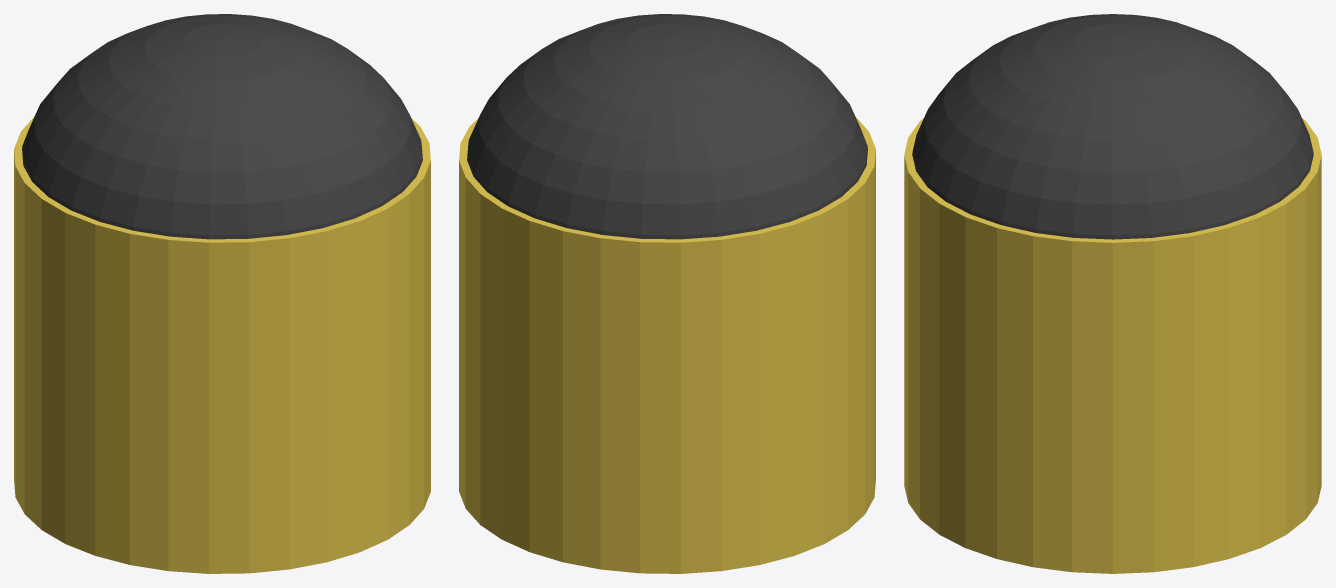
Rendered from cleaner.fbx.
3 views of the same model, side by side, from view 1: azimuth 30°, elevation 25°; view 2: azimuth 150°, elevation 25°; view 3: azimuth 270°, elevation 25° (orthographic).
Visible parts, largest first — view 1: cleaner; view 2: cleaner; view 3: cleaner.
Boxes of the visible parts, left/top/right/bottom form: cleaner: left=14, top=14, right=430, bottom=573; cleaner: left=459, top=14, right=875, bottom=573; cleaner: left=904, top=14, right=1321, bottom=573.
Bounding box in the file's own units: 8 × 9.46 × 8.
